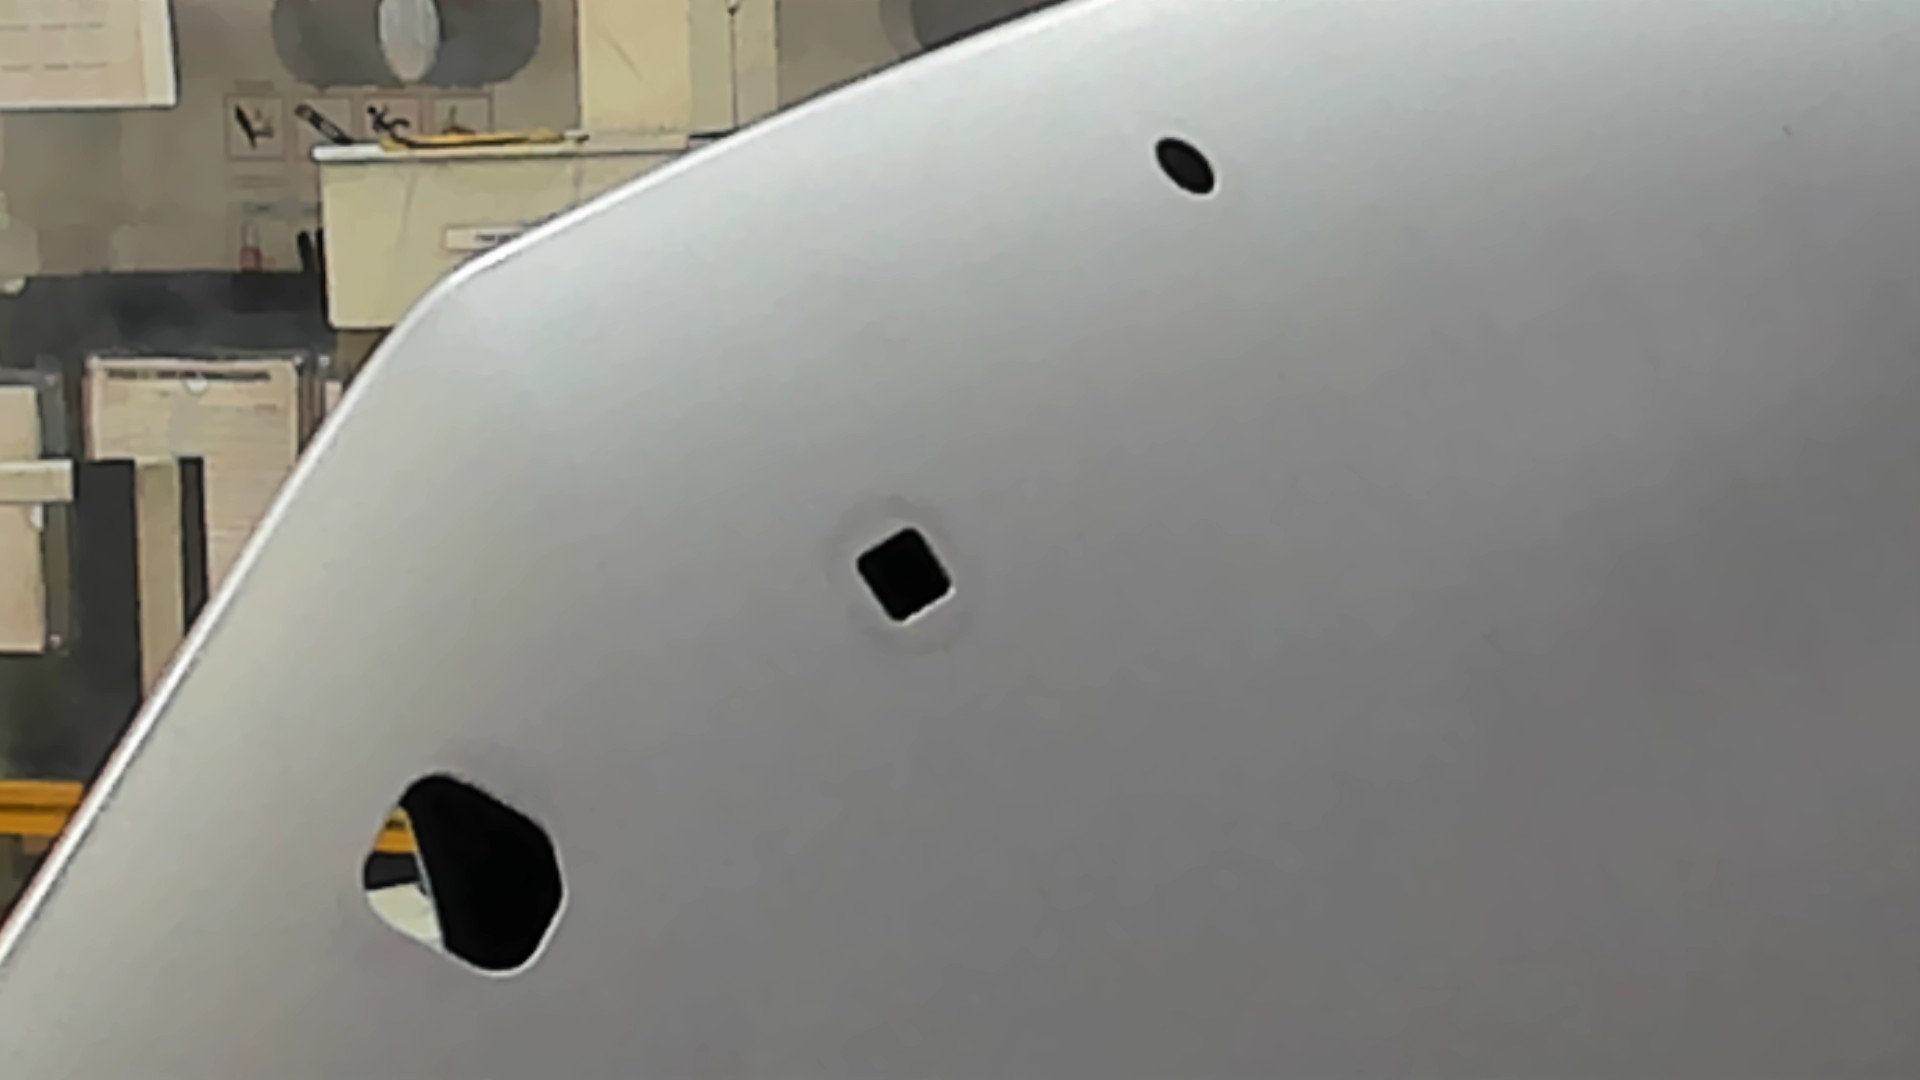Agujero: (855, 525, 956, 626), (1153, 136, 1217, 196)
Agujerote: (359, 770, 568, 978)
